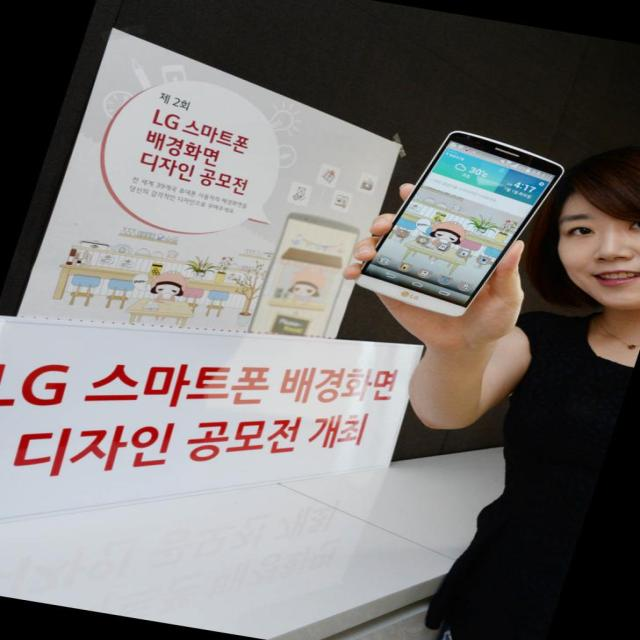handphone: (362, 136, 560, 316)
